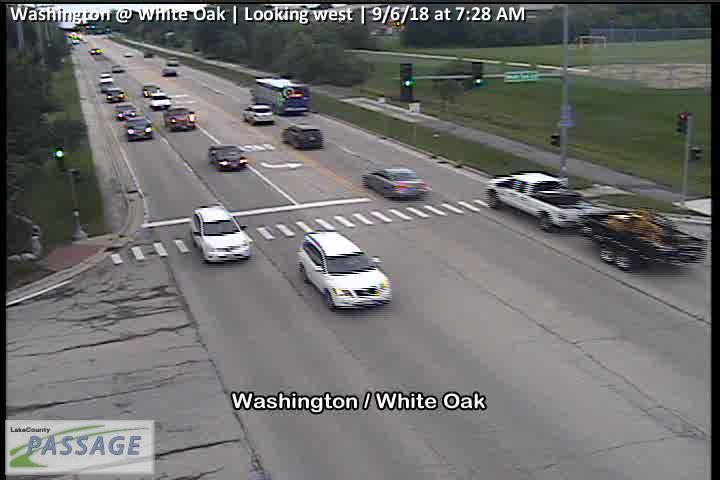SUV: (296, 231, 392, 311), (191, 204, 251, 263), (280, 122, 321, 151), (164, 108, 197, 131), (242, 104, 274, 125), (126, 117, 154, 141), (116, 101, 136, 120), (107, 88, 128, 102)
Sedan: (361, 167, 431, 198), (208, 143, 247, 171), (149, 93, 173, 110), (142, 84, 161, 98), (160, 66, 176, 78)
Truck: (484, 170, 705, 272), (254, 77, 312, 114)
